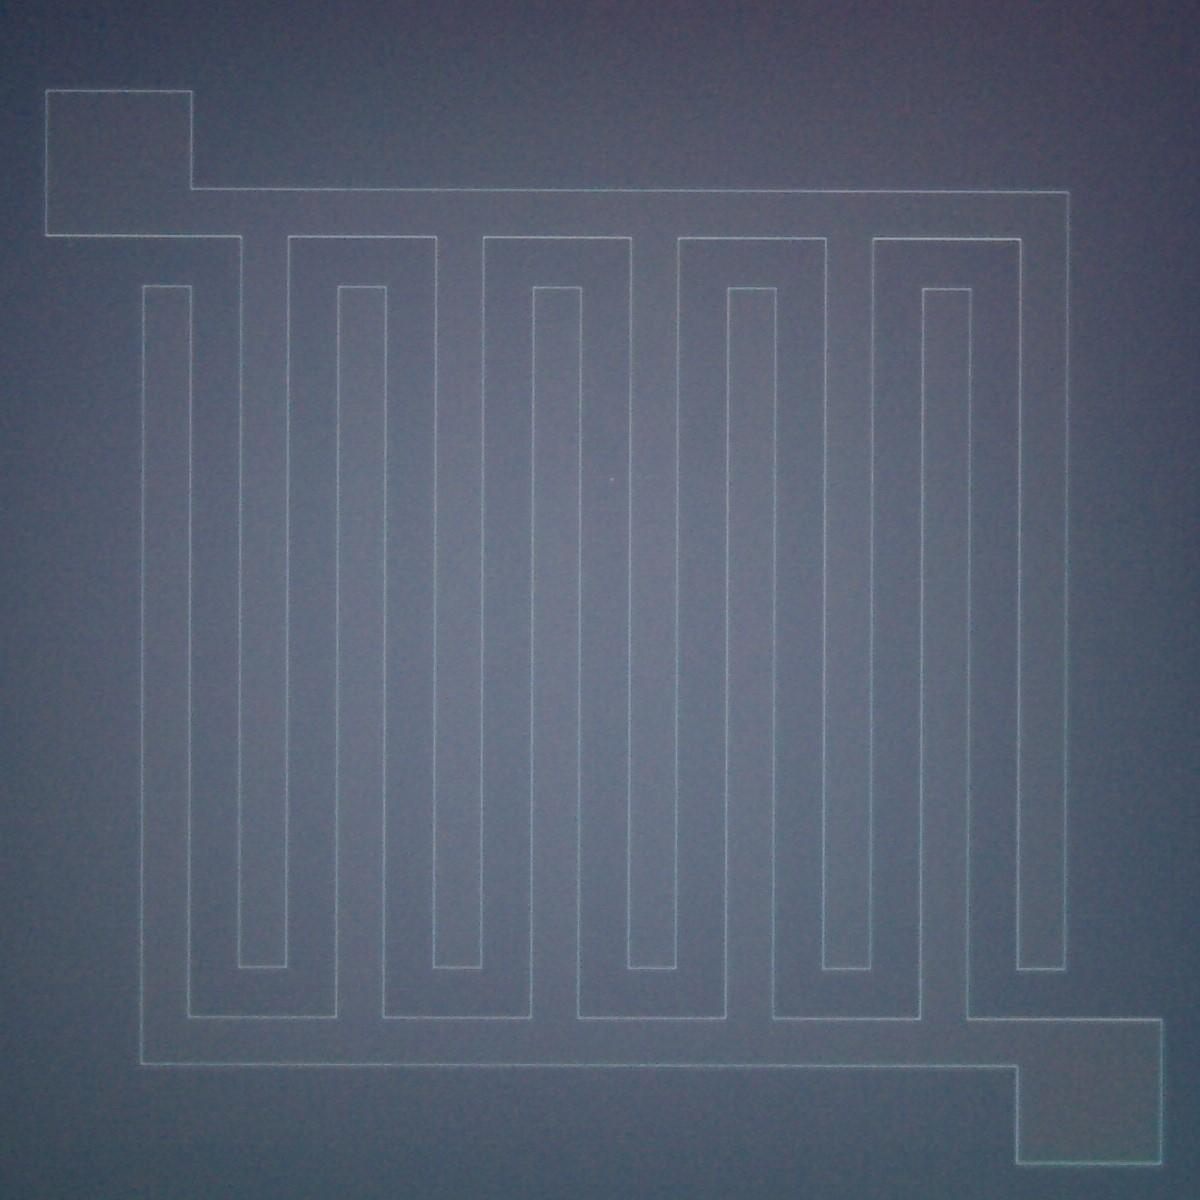s_point: (609, 477, 615, 484)
